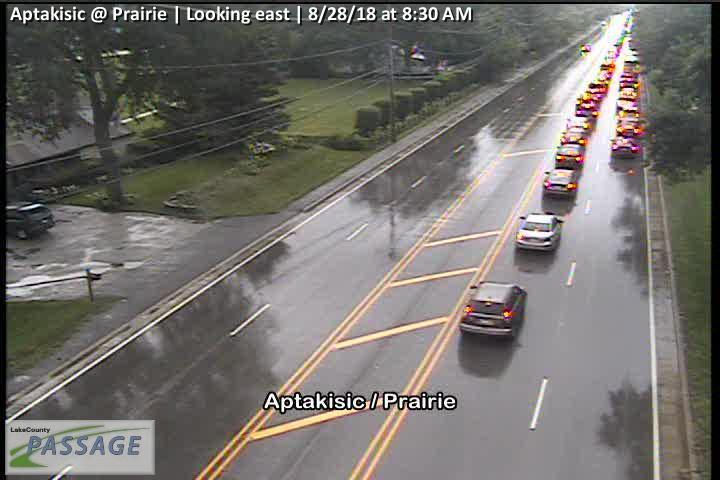SUV: (7, 202, 56, 239)
Sedan: (457, 281, 528, 341), (515, 213, 564, 251), (543, 168, 577, 196), (556, 142, 585, 169), (613, 136, 642, 159), (614, 98, 638, 115), (617, 118, 640, 135), (575, 99, 598, 115), (567, 115, 589, 131), (560, 130, 585, 144)
